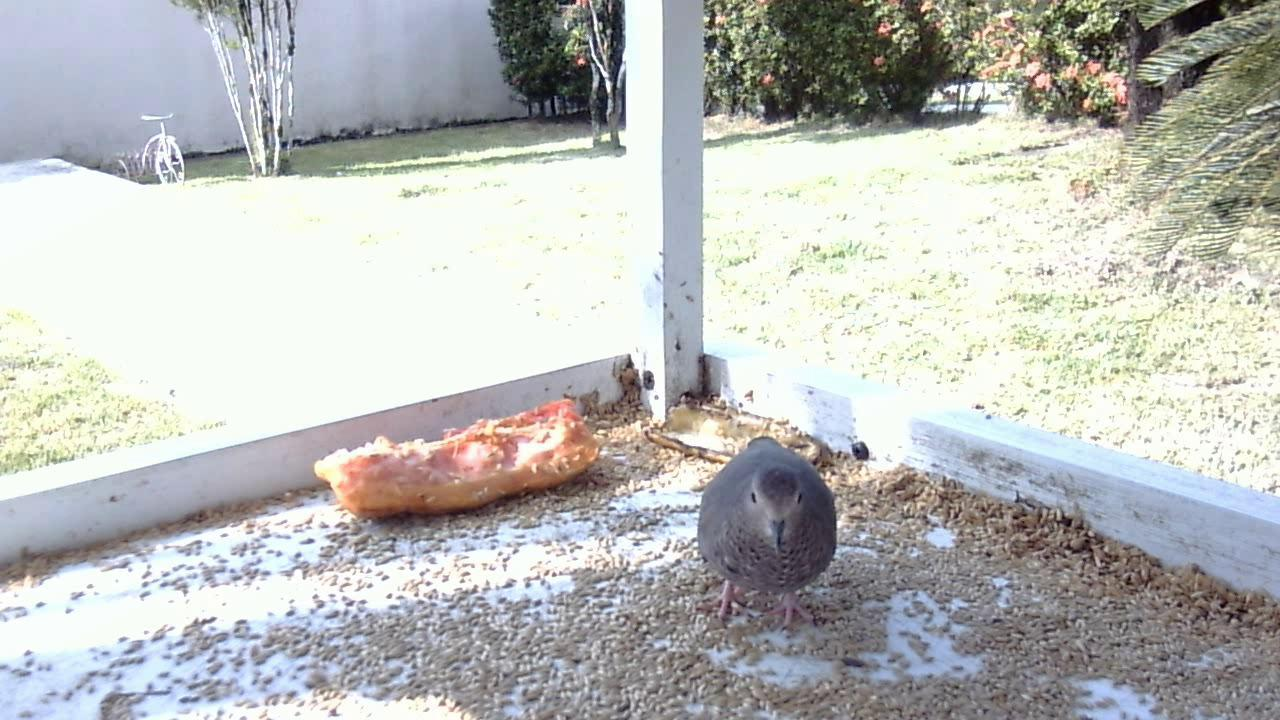rolinha: (692, 441, 841, 636)
